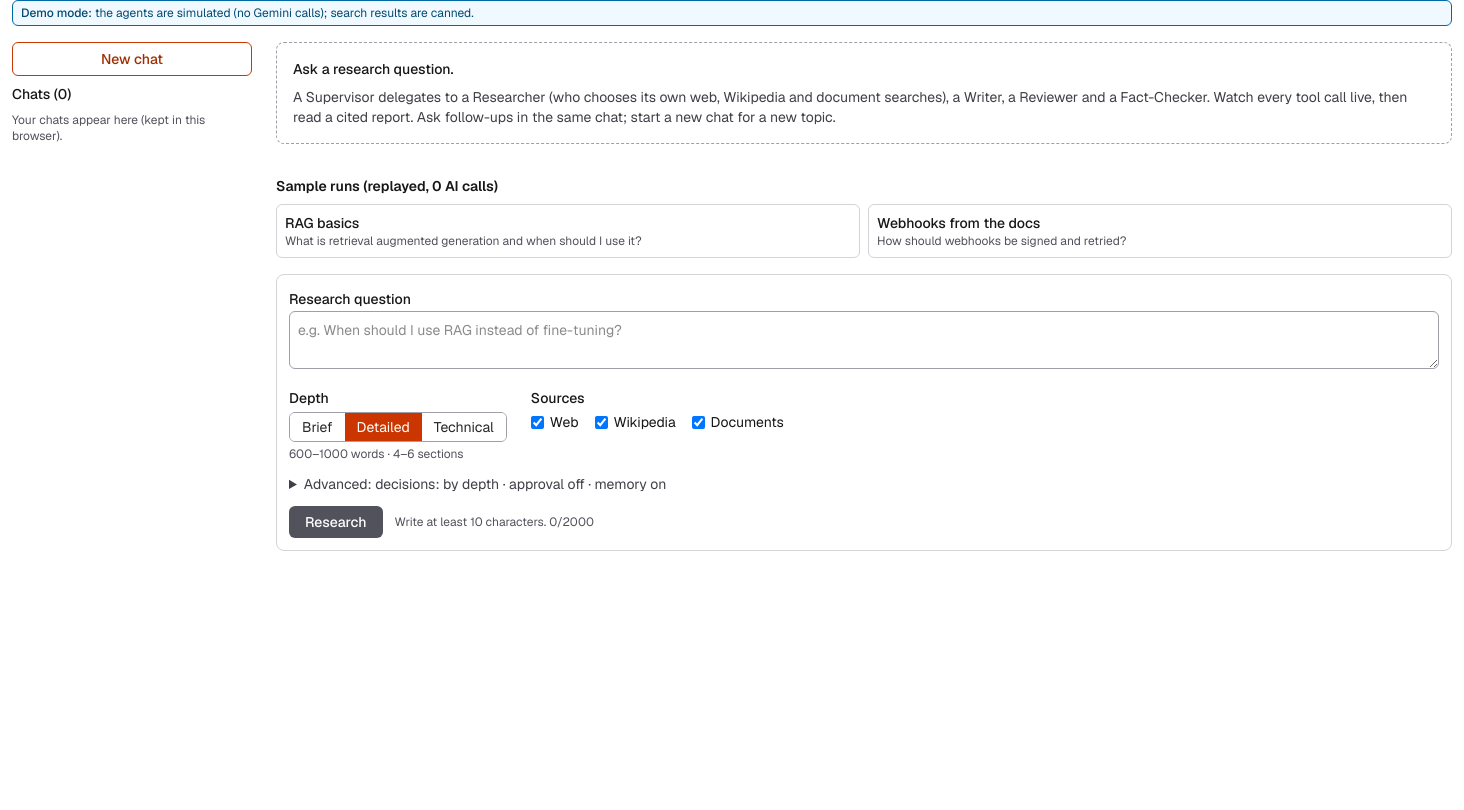
ResearchApp › an invalid event is reported as a contract error
Type "What is retrieval augmented generation and when should I use it?" into the text box labelled "Research question".
click(864, 340); type("What is retrieval augmented generation and when should I use it?")  # box 289,311 -> 1439,369
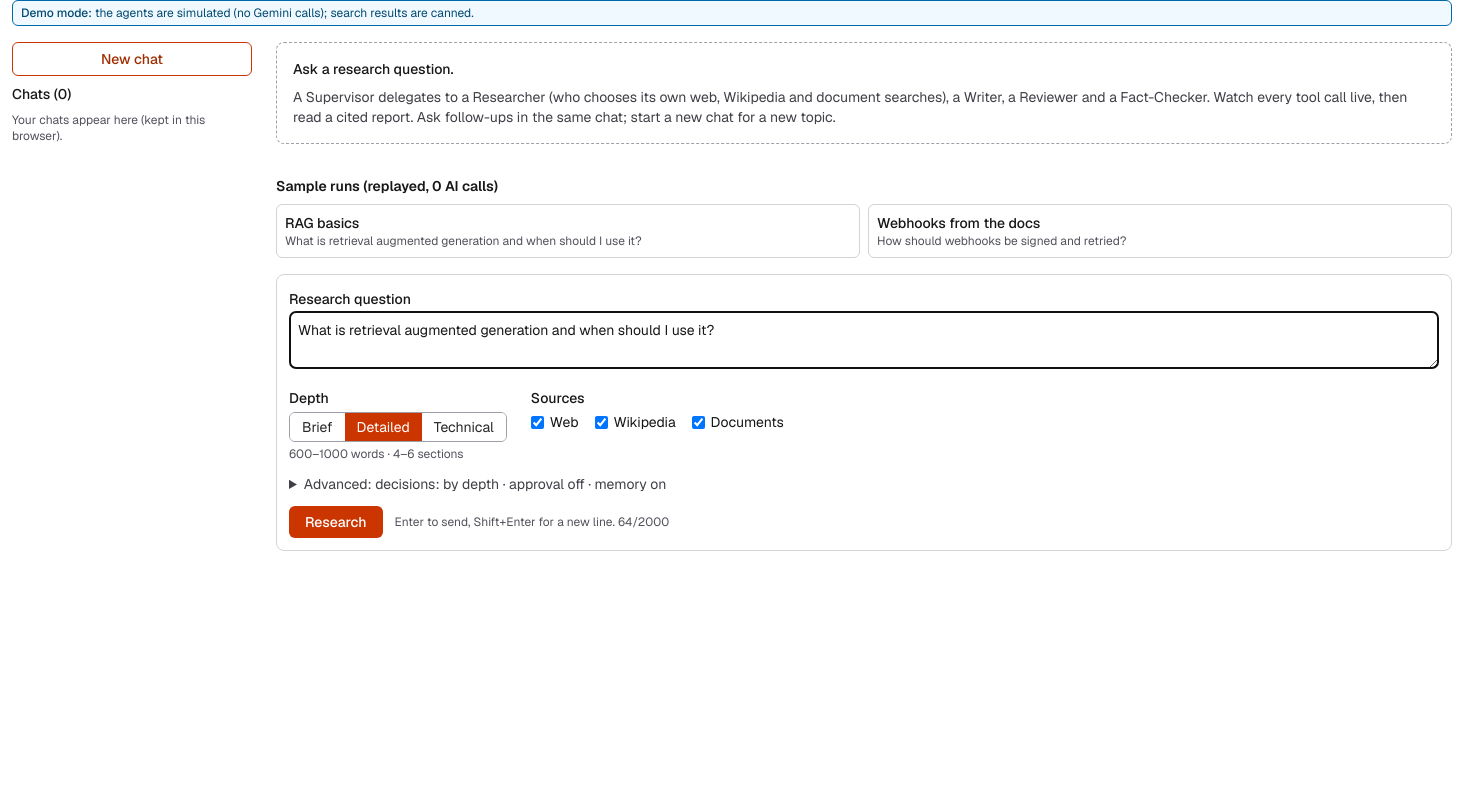
Click the button "Research".
click(336, 522)  # box 289,506 -> 383,538
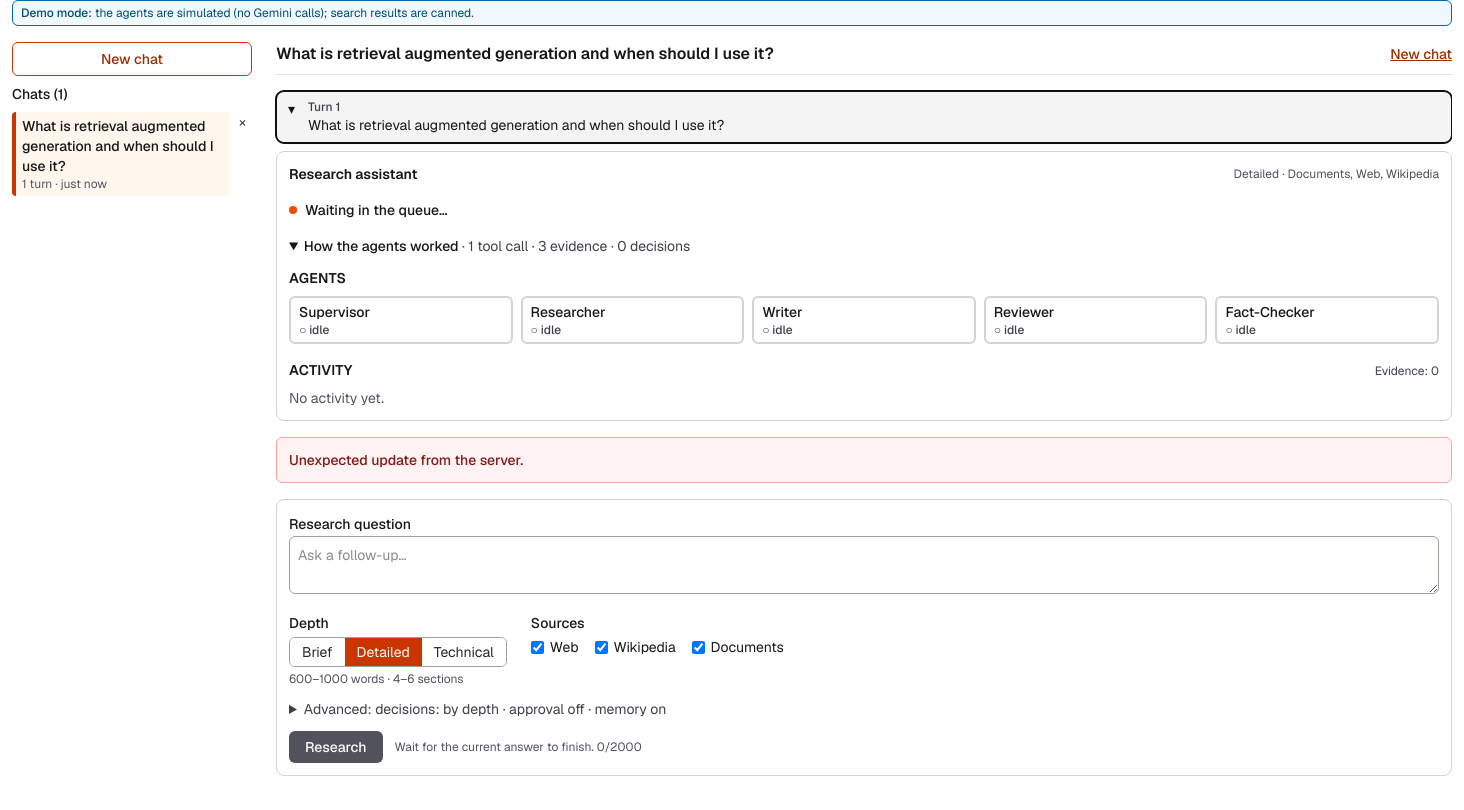
Expected: the text "Unexpected update from the server." is shown, 289,451 -> 523,469
